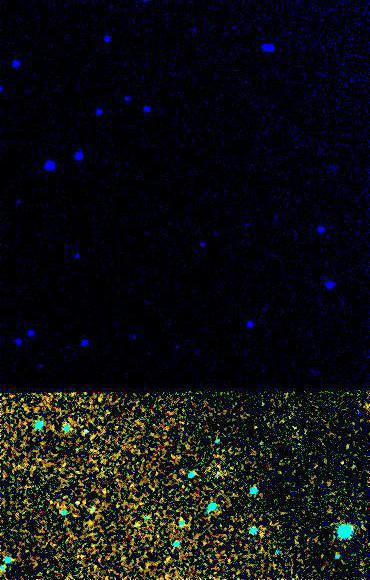star: (247, 523, 277, 553)
